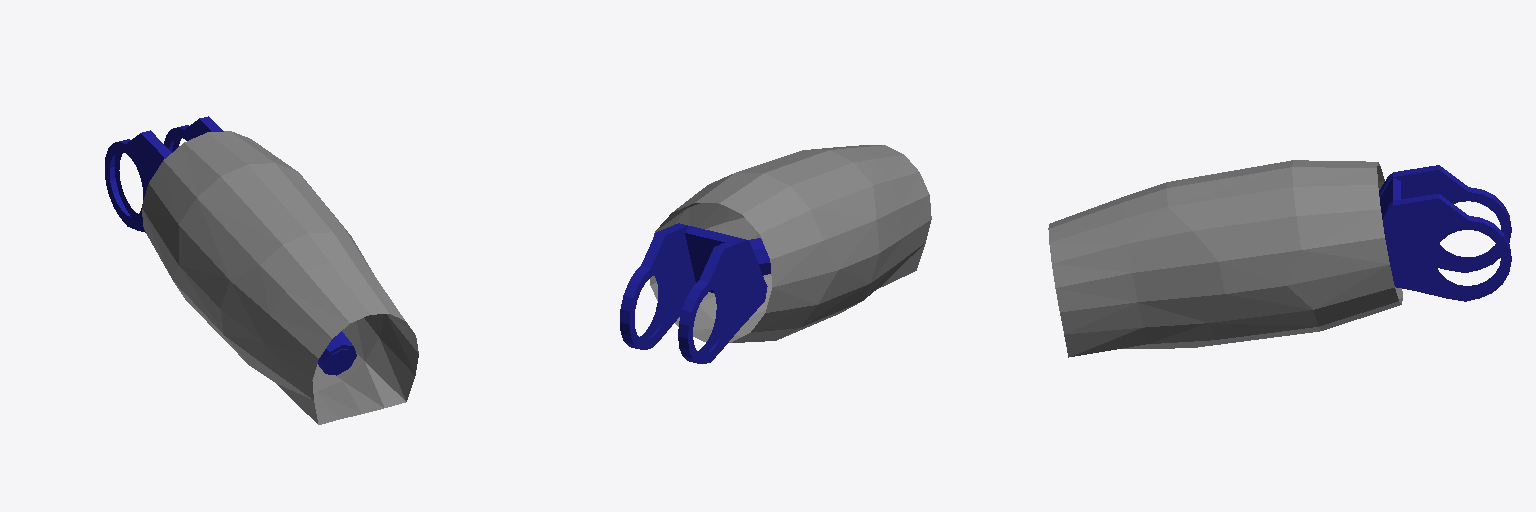
The model's file is L_HFE.obj.
3 views of the same model, side by side, from view 1: azimuth 30°, elevation 25°; view 2: azimuth 150°, elevation 25°; view 3: azimuth 270°, elevation 25° (orthographic).
Size of the model in its own units: 5.72 by 6.51 by 15.53.